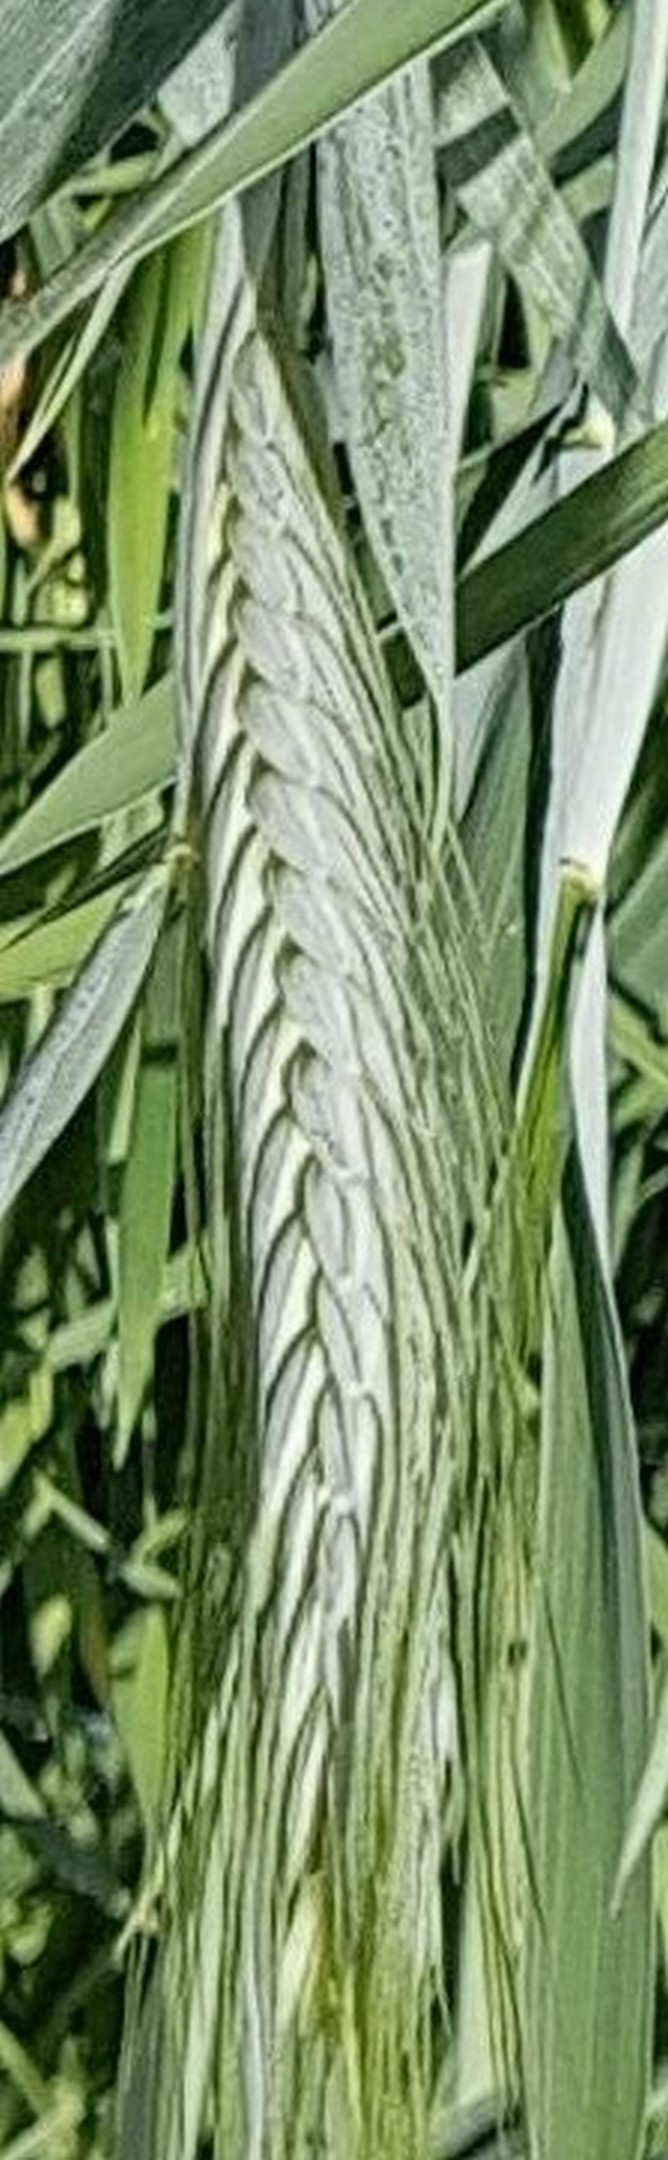Healthy Wheat: (142, 373, 493, 1703)
